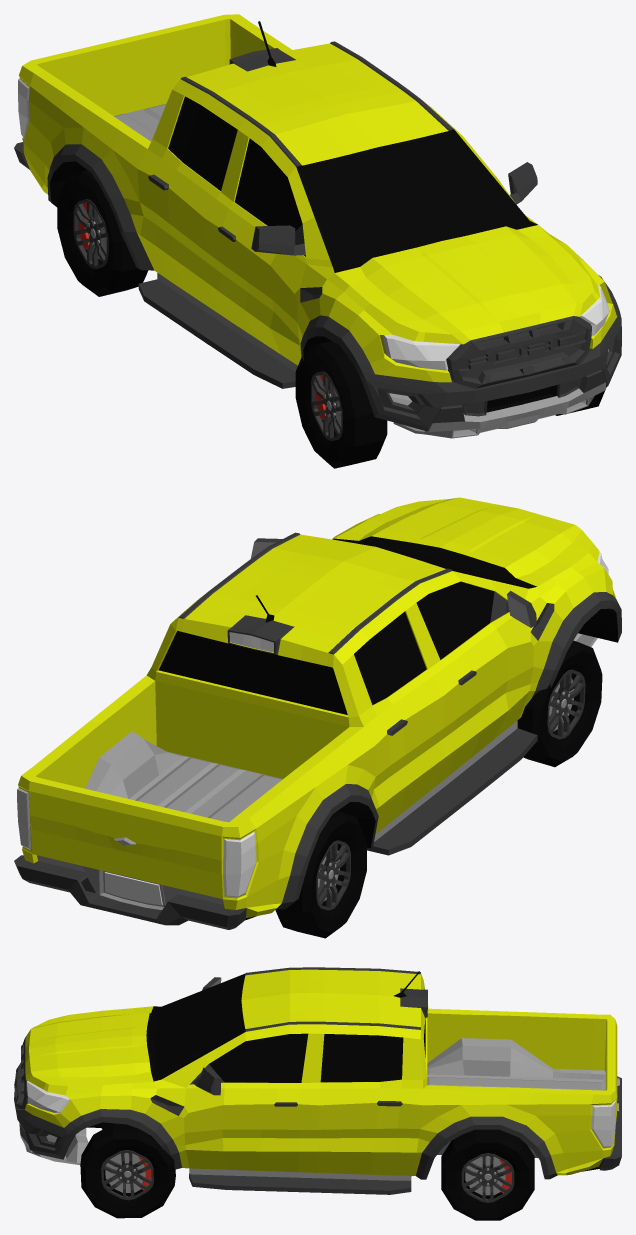
File: Ford_Raptor_Ranger.fbx
The picture shows the model from 3 angles, top to bottom: view 1: azimuth 30°, elevation 25°; view 2: azimuth 150°, elevation 25°; view 3: azimuth 270°, elevation 25°; orthographic projection. The views are drawn at different scales.
Visible parts, largest first — view 1: Cube, Circle, Circle.008; view 2: Cube, Circle.008, Circle; view 3: Cube, Circle.008, Circle.
Part boxes in pixels (box(x1,y1,x2,y2)): Cube: box(14, 14, 621, 438); Circle: box(295, 341, 606, 468); Circle.008: box(57, 170, 148, 296); Cube: box(14, 497, 621, 929); Circle.008: box(275, 811, 366, 938); Circle: box(517, 640, 602, 767); Cube: box(14, 967, 621, 1194); Circle.008: box(441, 1129, 534, 1220); Circle: box(80, 1123, 175, 1218).
Bounding box in the file's own units: 4.91 × 4.58 × 12.27.
